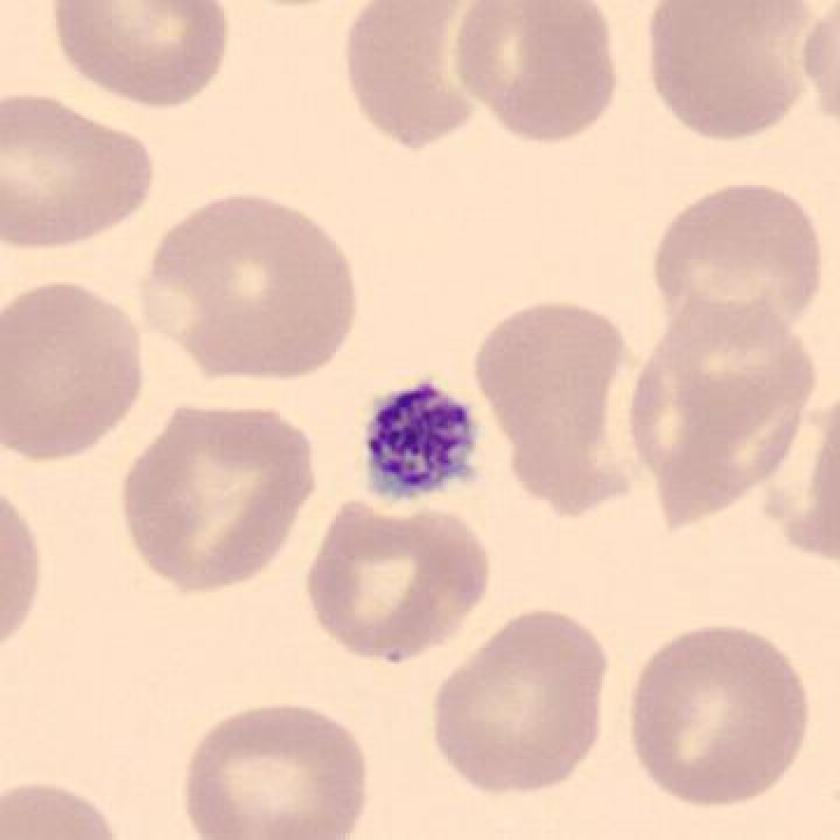platelets: (351, 369, 493, 517)
